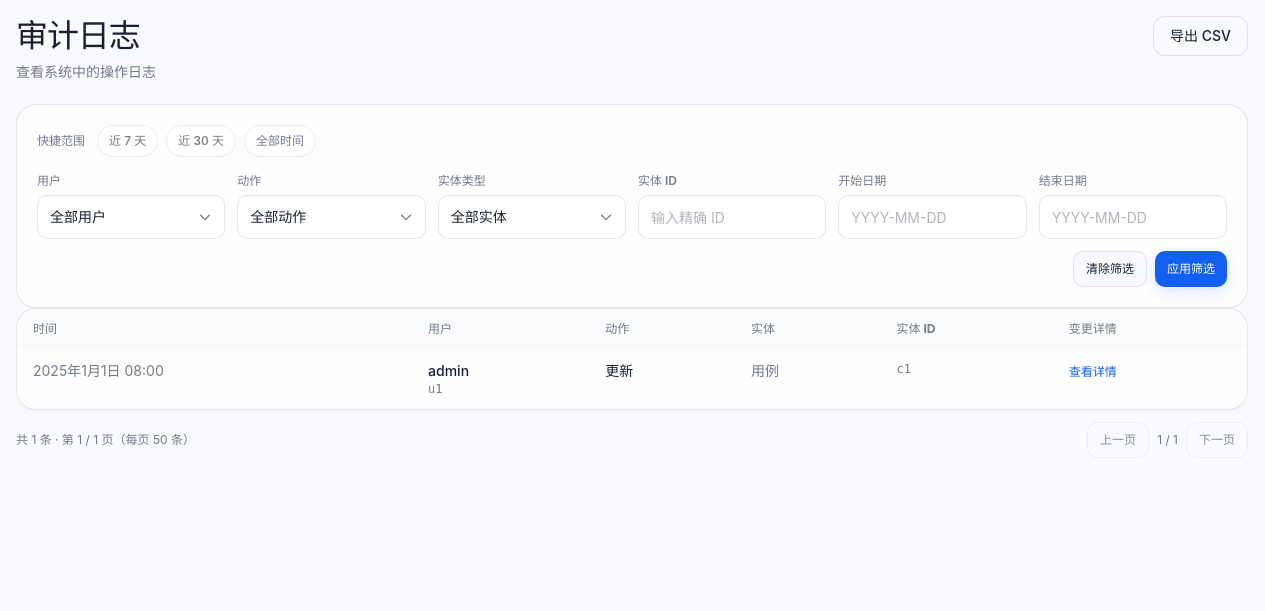
Test: AdminAuditLogsPage › renders readable rows and keeps raw changes collapsed by default
The image size is (1265, 611).
Expected: the text "c1" is shown, [881,349,1053,409]
Expected: the text "用例" is shown, [735,349,881,409]
Click the dropdown named "实体类型".
click(532, 217)  # box [438,195,626,239]
(page scrolled)
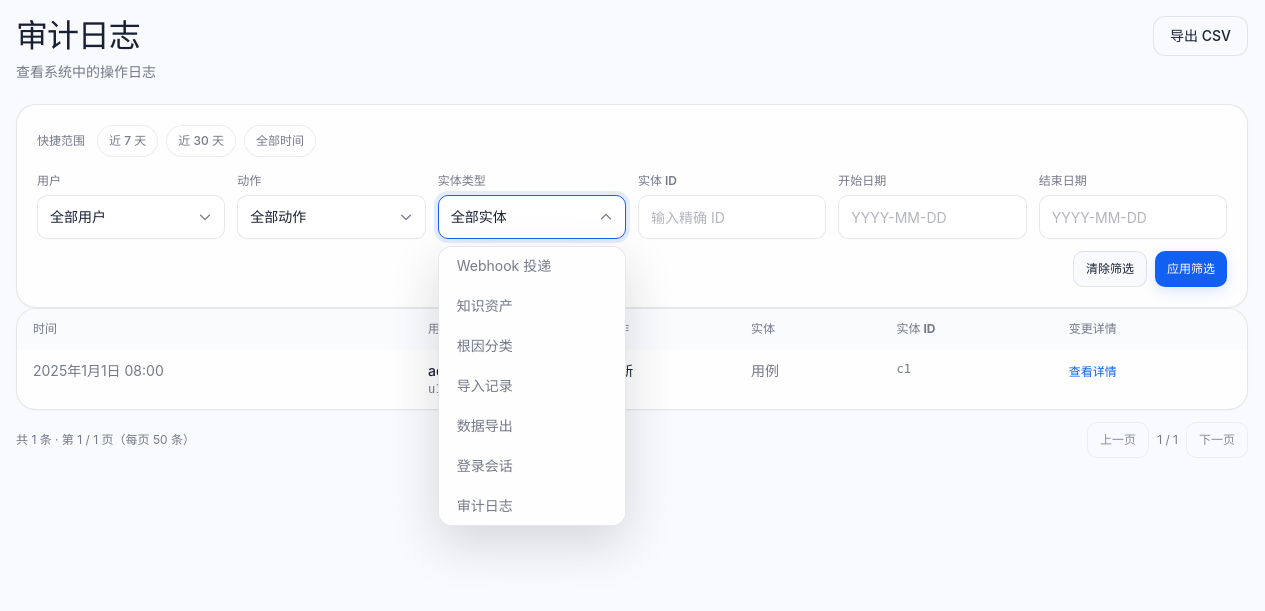
Expected: the option "知识资产" holds "asset", [445,286,619,326]
Expected: the option "根因分类" holds "rootCauseCategory", [445,326,619,366]
Expected: the option "登录会话" holds "session", [445,446,619,486]
Press Escape
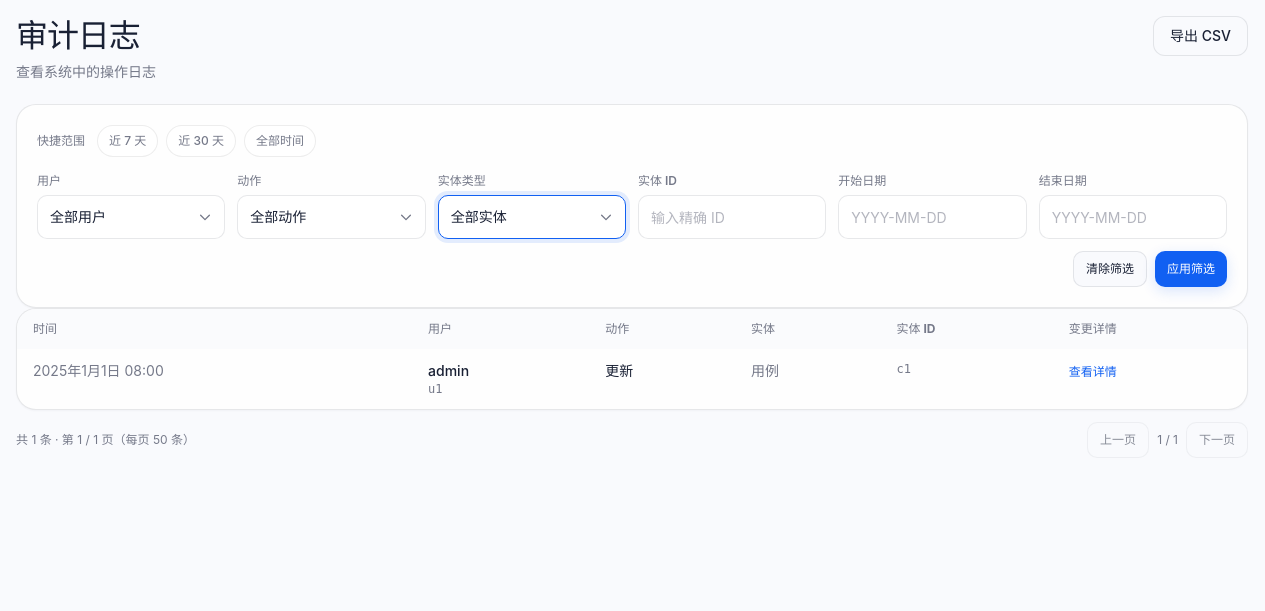
Click the dropdown labelled "动作".
click(331, 217)  # box [237,195,426,239]
(page scrolled)
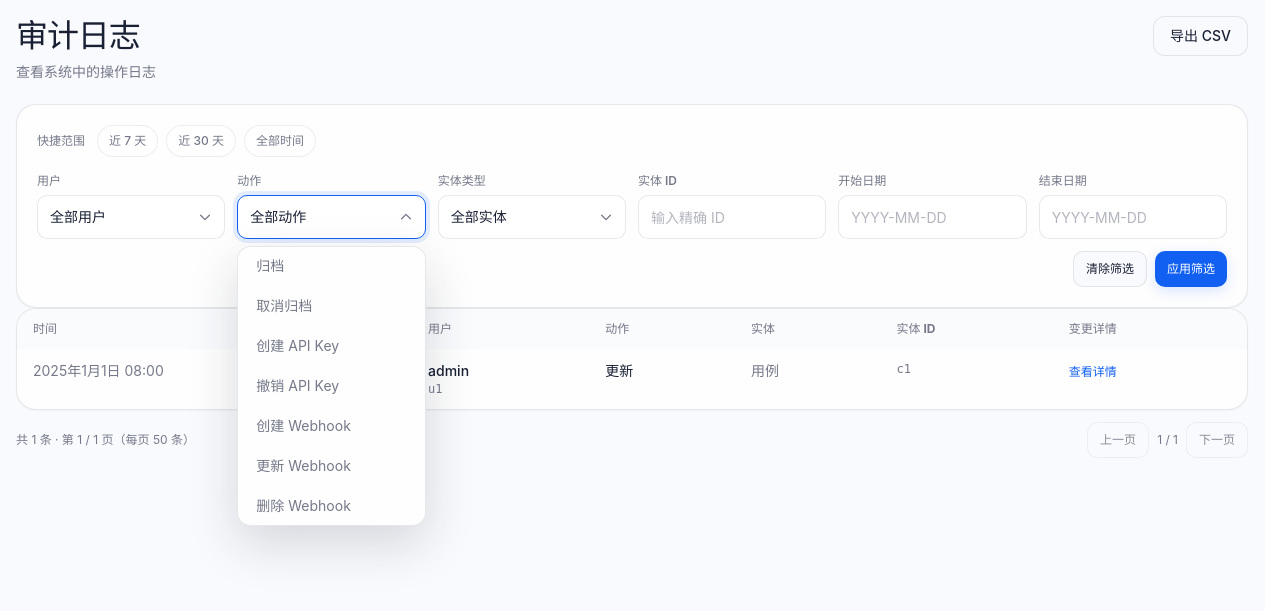
Expected: the option "撤销 API Key" holds "API_KEY_REVOKE", [244,366,419,406]
Press Escape
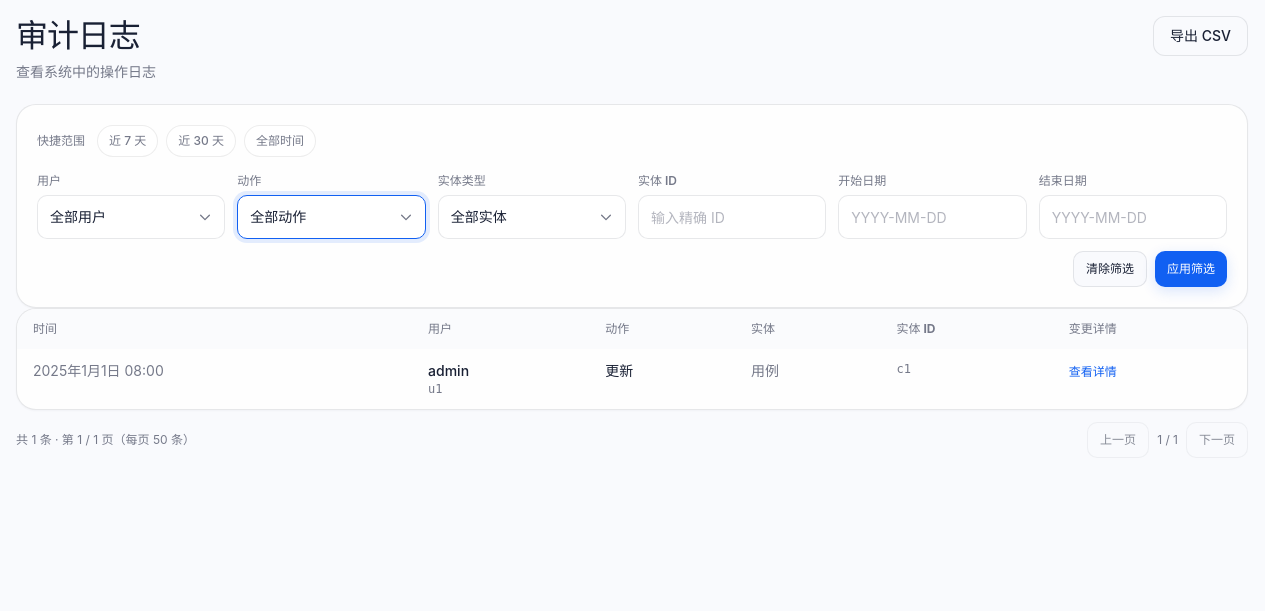
Expected: the text "pending" is not shown
Click the button "查看详情".
click(1093, 372)  # box [1069,364,1117,380]
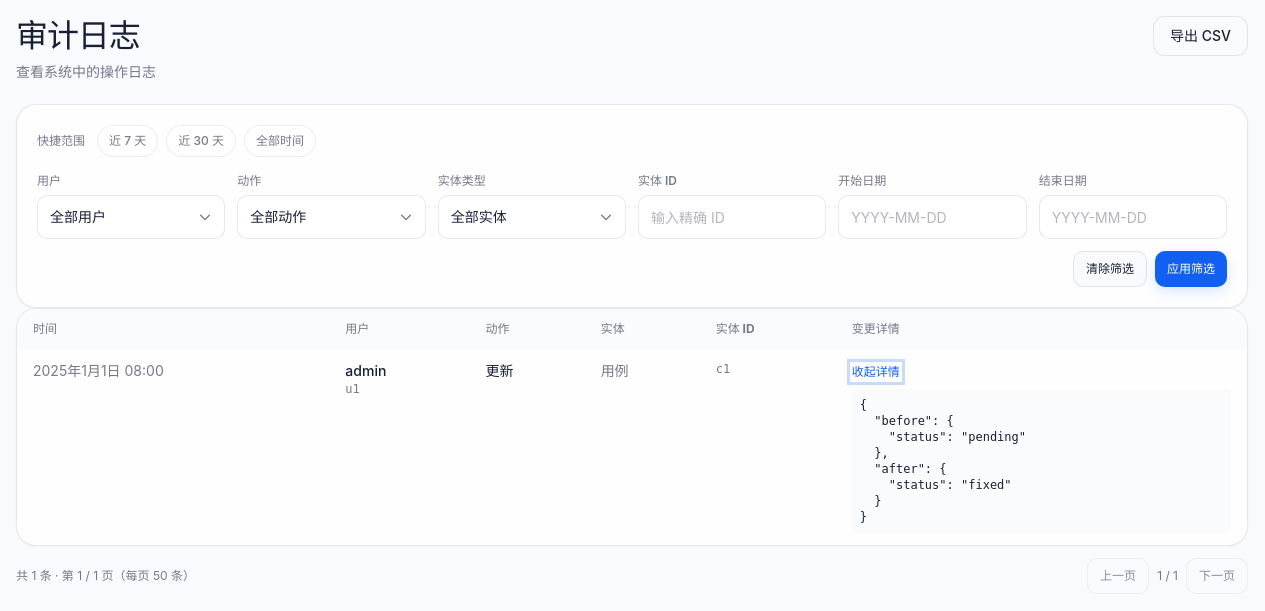
Expected: the text "共 1 条 · 第 1 / 1 页（每页 50 条）" is shown, [16,568,195,584]
Expected: the text "pending" is shown, [860,398,1026,524]
Expected: the button "收起详情" is expanded, [852,364,900,380]
